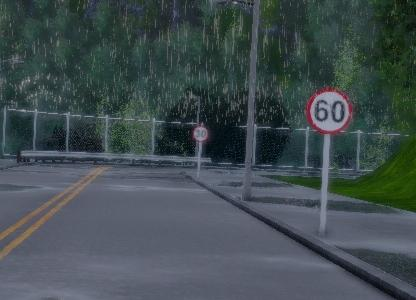Speed_60: (303, 83, 353, 135)
